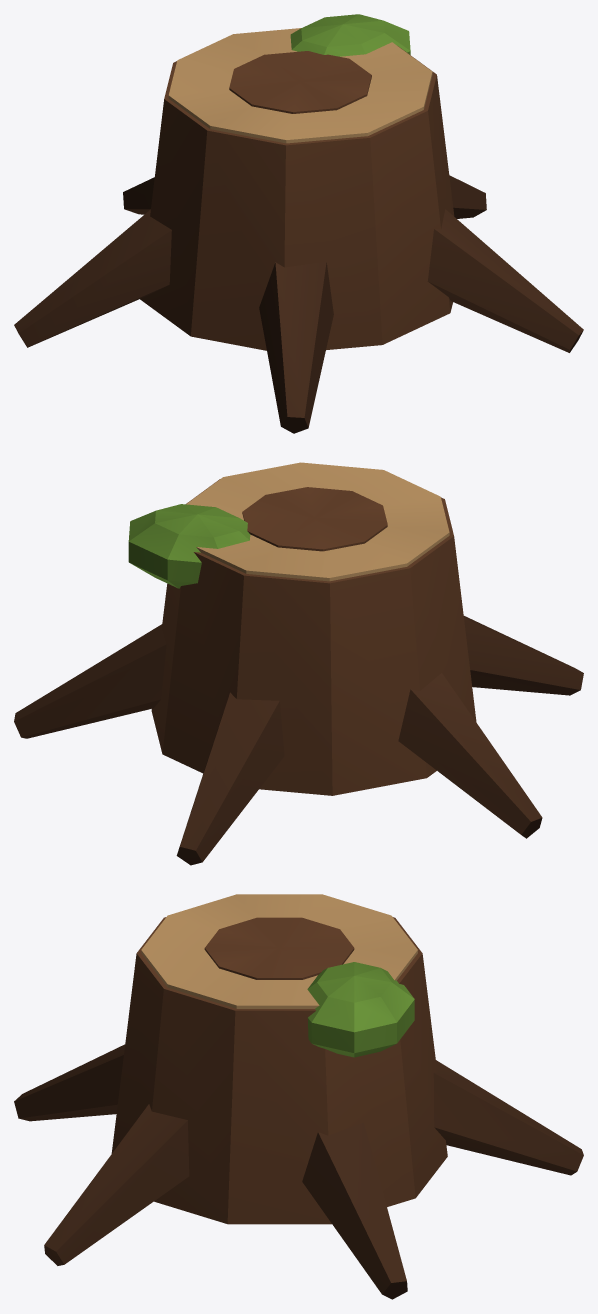
Rendered from stump.glb.
3 renders of one model, top to bottom at view 1: azimuth 30°, elevation 25°; view 2: azimuth 150°, elevation 25°; view 3: azimuth 270°, elevation 25°, orthographic. The views are drawn at different scales.
Visible parts, largest first — view 1: Stump; view 2: Stump; view 3: Stump.
Boxes of the visible parts, box(x1,y1,x2,y2) form: Stump: box(14, 14, 583, 433); Stump: box(14, 462, 583, 865); Stump: box(14, 894, 583, 1299).
Size of what is drawn, in the model's own units: 1.56 by 0.7356 by 1.52.
